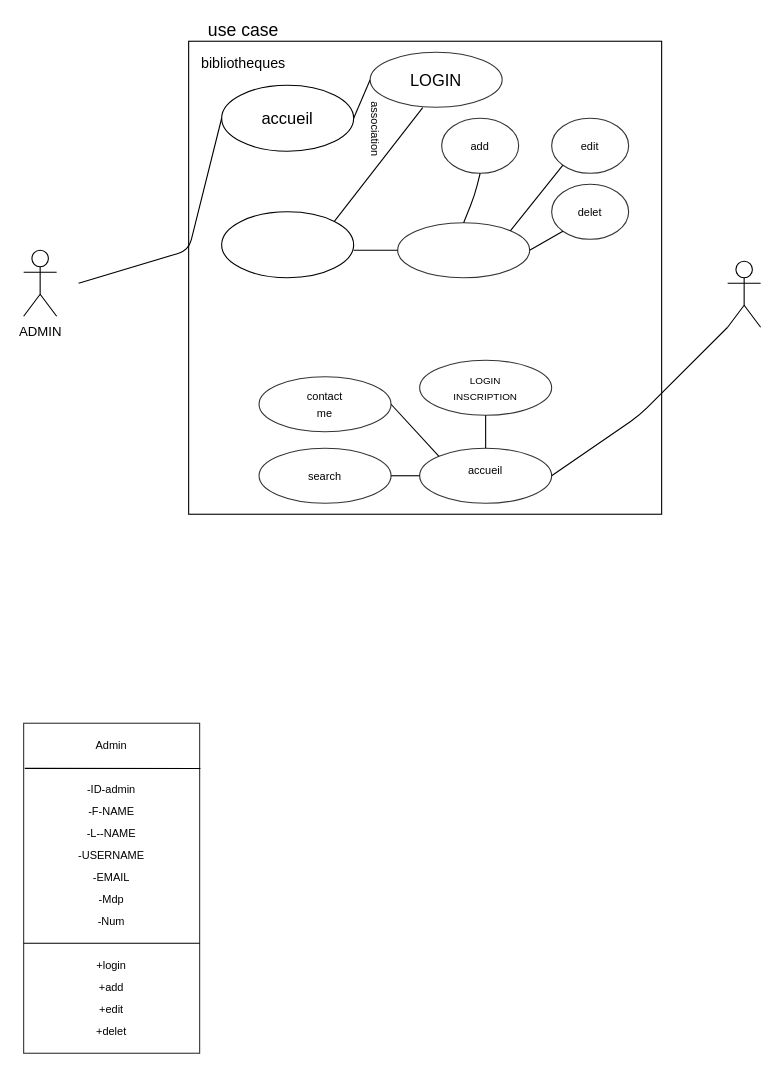
Some shapes in this 781 by 1073 pixel diagram are drawn without their labels. Each missing label, with the centre of its shape:
"crud" belongs at point 463,250.
"DASHBOARD" belongs at point 287,244.
"USER" belongs at point 744,293.
